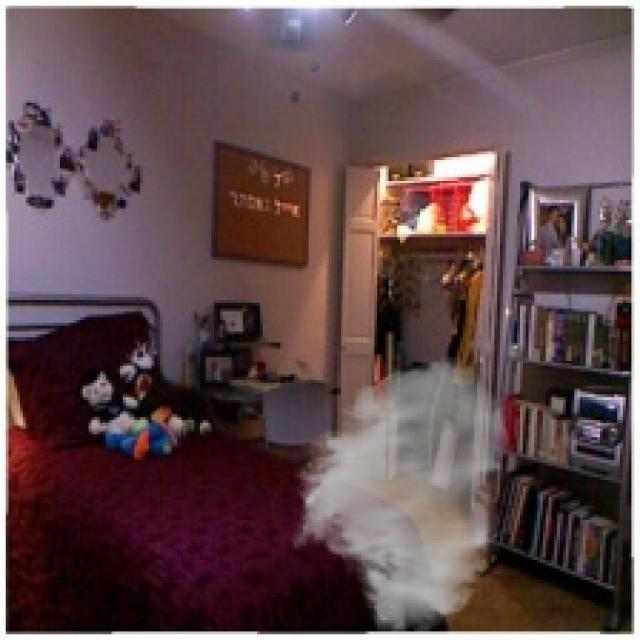Smoke: (288, 354, 512, 637)
